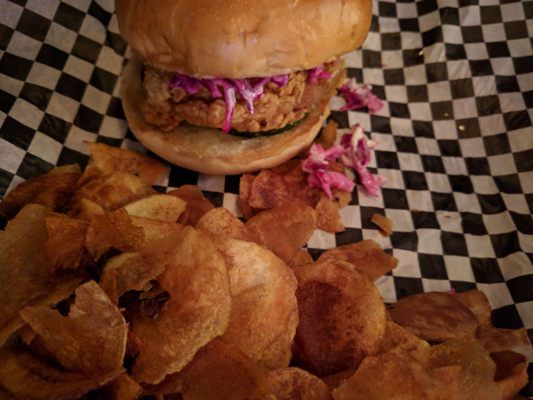soup: (114, 0, 374, 175)
